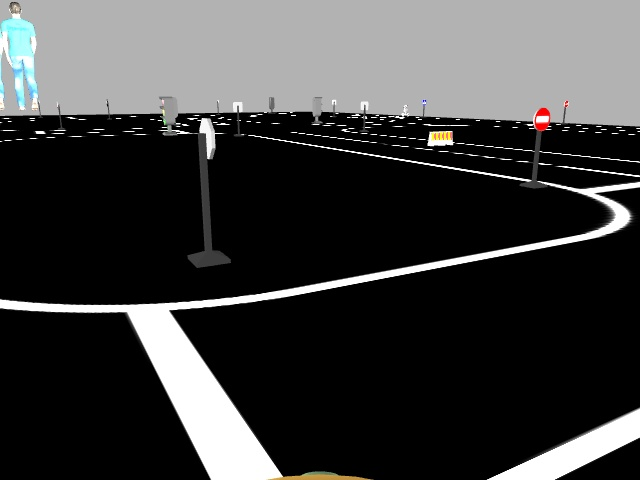NoEntry: (533, 106, 549, 130)
